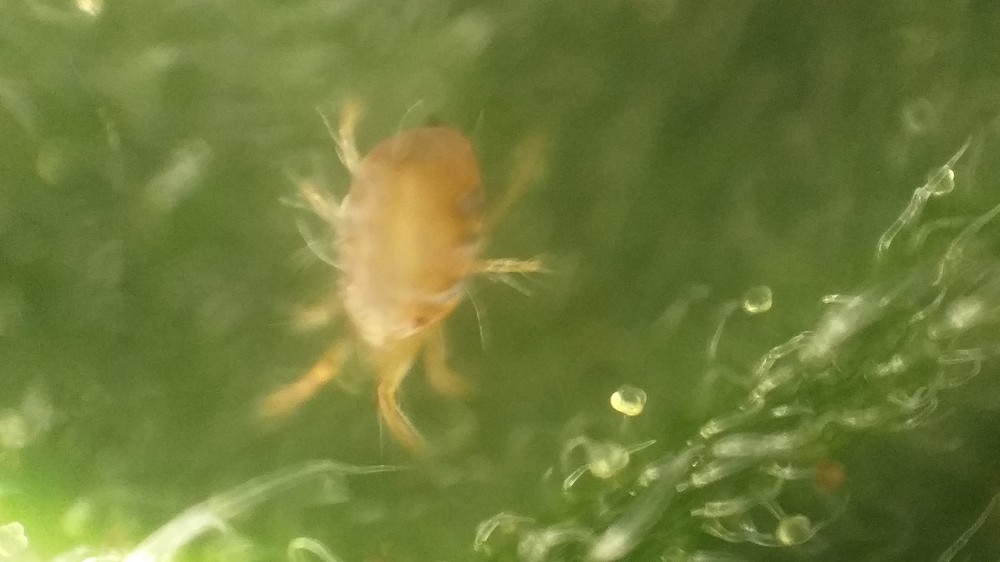Aracnido Rojo: (252, 89, 562, 470)
